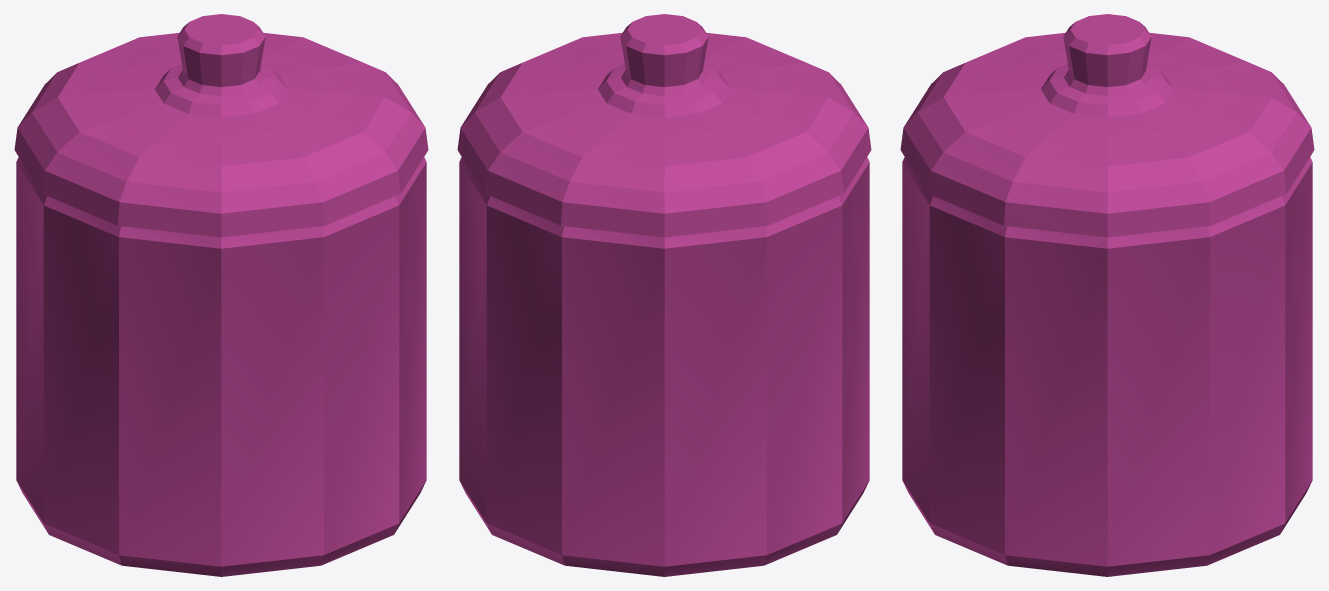
The model's file is Tarro.fbx.
The picture shows the model from 3 angles, left to right: view 1: azimuth 30°, elevation 25°; view 2: azimuth 150°, elevation 25°; view 3: azimuth 270°, elevation 25°; orthographic projection.
Parts seen in each view (by area): view 1: tarro, tapa; view 2: tarro, tapa; view 3: tarro, tapa.
Boxes of the visible parts, box(x1,y1,x2,y2) form: tarro: box(16, 157, 426, 576); tapa: box(14, 14, 428, 237); tarro: box(459, 157, 869, 576); tapa: box(457, 14, 871, 237); tarro: box(902, 157, 1312, 576); tapa: box(900, 14, 1314, 237).
Size of the model in its own units: 13.26 by 16.55 by 13.26.
